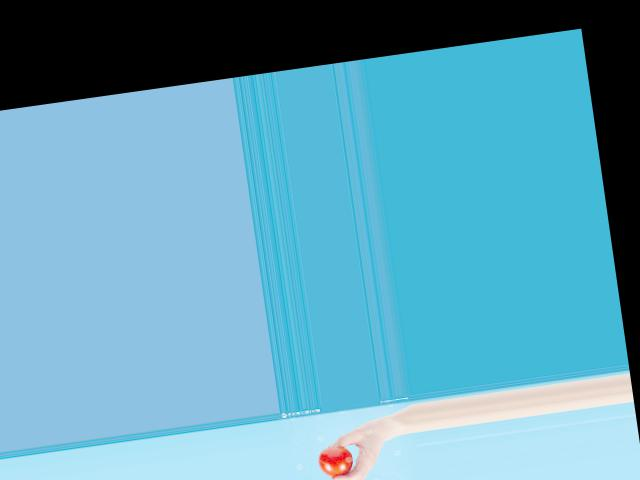tomato: (317, 444, 355, 478)
